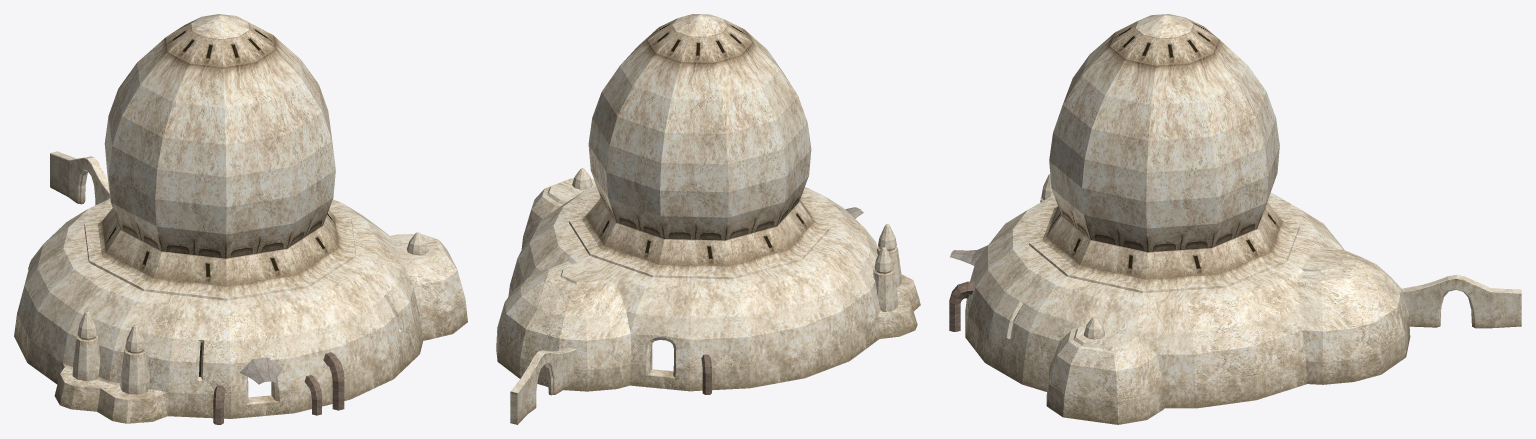
The model's file is thm_tato_watto_junkshop_r0_mesh_l1.fbx.
The picture shows the model from 3 angles, left to right: view 1: azimuth 30°, elevation 25°; view 2: azimuth 150°, elevation 25°; view 3: azimuth 270°, elevation 25°; orthographic projection. The views are drawn at different scales.
Parts seen in each view (by area): view 1: mesh_node; view 2: mesh_node; view 3: mesh_node.
Part boxes in pixels (x1,y1,x2,y2): mesh_node: (14,14,467,424); mesh_node: (496,14,920,424); mesh_node: (949,14,1521,424).
Size of the model in its own units: 37.7 by 28 by 47.01.
